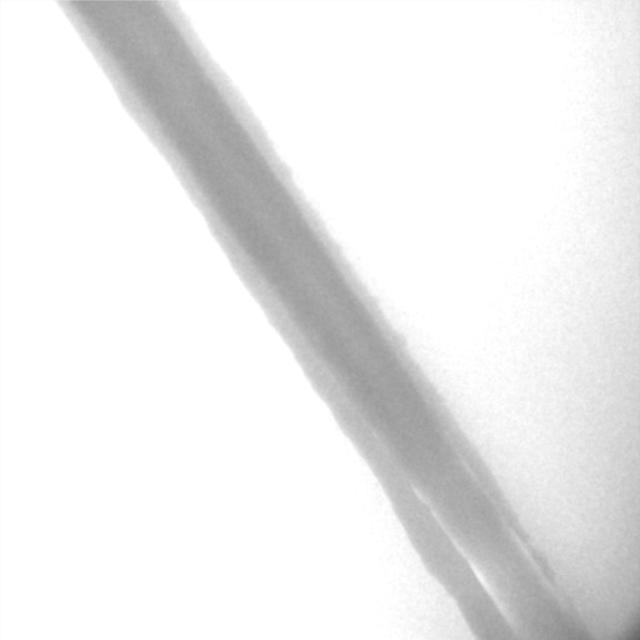unfused: (412, 462, 561, 619)
